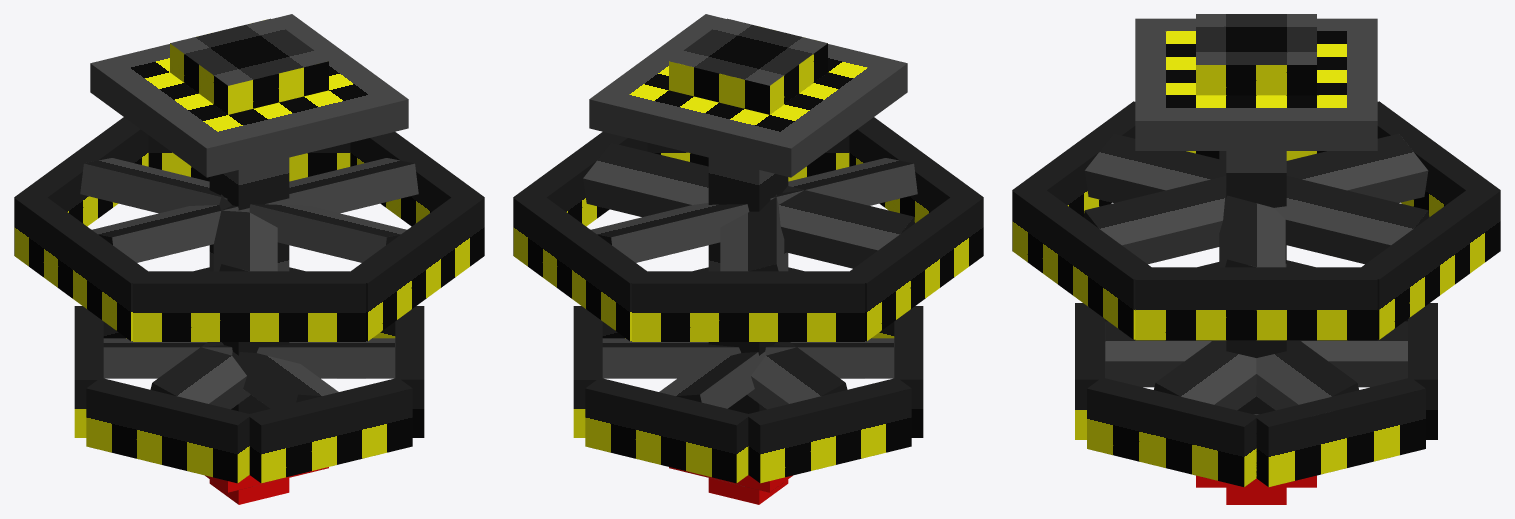
The model's file is electric_turbine_small.obj.
3 views of the same model, side by side, from view 1: azimuth 30°, elevation 25°; view 2: azimuth 150°, elevation 25°; view 3: azimuth 270°, elevation 25° (orthographic). The views are drawn at different scales.
Visible parts, largest first — view 1: Support, MediumShield3, Shield1, Shield4, Plug, MediumBlade2, MediumBlade3, MediumShield5, MediumShield4, Blade3, Axis, MediumShield2 (+8 smaller); view 2: Support, MediumShield2, MediumBlade3, Shield2, Shield3, Plug, MediumShield6, MediumShield5, MediumBlade1, Blade2, Axis, MediumShield3 (+8 smaller); view 3: Support, MediumShield1, MediumBlade1, MediumBlade2, Shield5, Shield6, MediumShield6, MediumShield4, Plug, Blade1, Axis, Blade3 (+7 smaller).
Boxes of the visible parts, <box> form: Support: <box>90,14,408,177</box>; MediumShield3: <box>133,271,365,341</box>; Shield1: <box>86,378,251,483</box>; Shield4: <box>249,378,412,483</box>; Plug: <box>170,18,328,114</box>; MediumBlade2: <box>80,158,406,262</box>; MediumBlade3: <box>92,158,418,262</box>; MediumShield5: <box>14,193,151,341</box>; MediumShield4: <box>351,196,484,341</box>; Blade3: <box>103,338,395,378</box>; Axis: <box>209,157,289,504</box>; MediumShield2: <box>14,117,148,226</box>; Support: <box>589,14,907,177</box>; MediumShield2: <box>632,271,864,341</box>; MediumBlade3: <box>583,143,914,268</box>; Shield2: <box>585,378,750,483</box>; Shield3: <box>748,378,911,483</box>; Plug: <box>669,18,827,114</box>; MediumShield6: <box>513,192,650,341</box>; MediumShield5: <box>842,192,983,341</box>; MediumBlade1: <box>591,158,917,262</box>; Blade2: <box>602,338,894,378</box>; Axis: <box>708,157,788,504</box>; MediumShield3: <box>849,117,983,222</box>; Support: <box>1135,18,1377,150</box>; MediumShield1: <box>1135,267,1377,340</box>; MediumBlade1: <box>1084,133,1429,264</box>; MediumBlade2: <box>1083,133,1428,264</box>; Shield5: <box>1254,377,1425,487</box>; Shield6: <box>1087,378,1258,487</box>; MediumShield6: <box>1353,184,1500,339</box>; MediumShield4: <box>1012,184,1151,339</box>; Plug: <box>1196,14,1316,95</box>; Blade1: <box>1105,321,1407,387</box>; Axis: <box>1226,151,1286,504</box>; Blade3: <box>1154,340,1256,410</box>.
Size of the model in its own units: 0.875 by 1.03 by 1.01.
